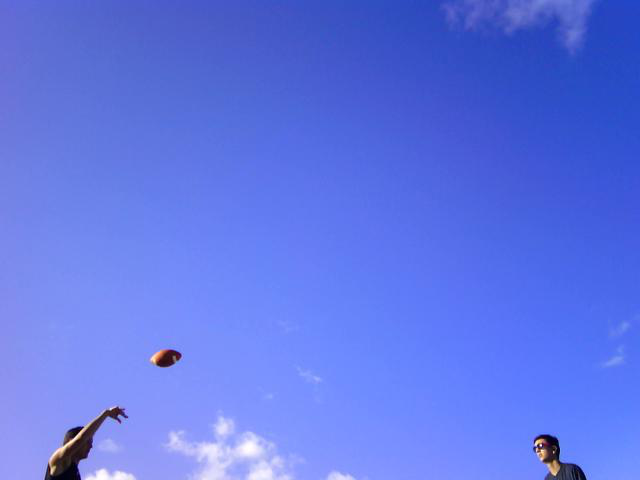football: (145, 346, 188, 369)
